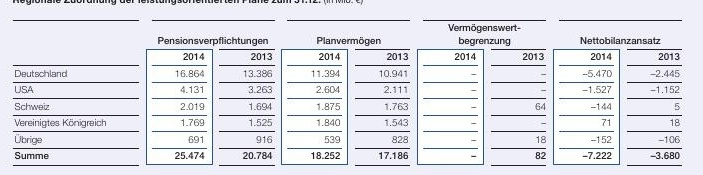table: (0, 0, 703, 175)
